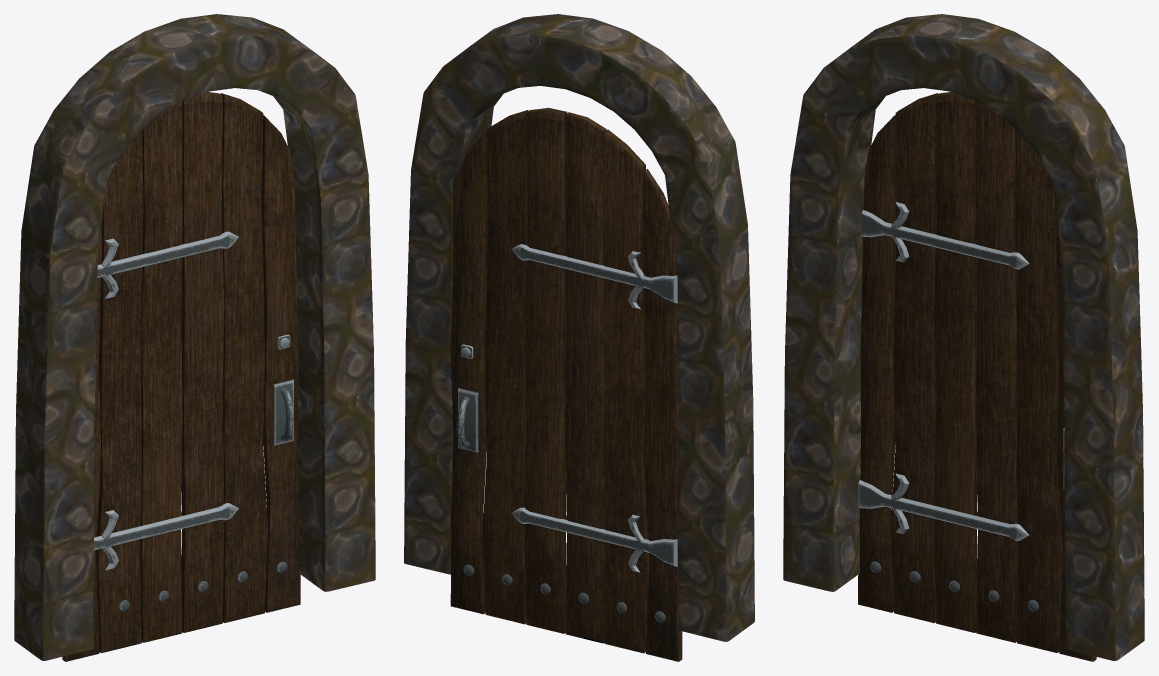
The model's file is door.glb.
The picture shows the model from 3 angles, left to right: view 1: azimuth 30°, elevation 25°; view 2: azimuth 150°, elevation 25°; view 3: azimuth 330°, elevation 25°; orthographic projection. The views are drawn at different scales.
Visible parts, largest first — view 1: Wood, Frame; view 2: Wood, Frame; view 3: Wood, Frame.
Part boxes in pixels (left/top/right/bottom): Wood: left=62, top=92, right=300, bottom=661; Frame: left=14, top=14, right=375, bottom=660; Wood: left=450, top=107, right=682, bottom=661; Frame: left=404, top=14, right=754, bottom=641; Wood: left=858, top=92, right=1096, bottom=661; Frame: left=783, top=14, right=1144, bottom=660.
Bounding box in the file's own units: 537 × 942 × 112.
1 material, 1 textured.
